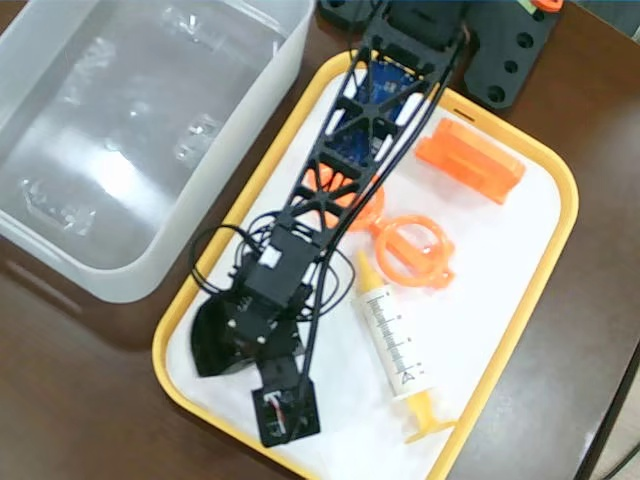syringe: (350, 246, 459, 442)
